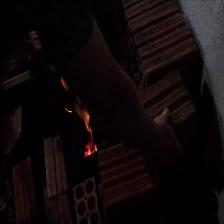fire: (53, 74, 98, 158)
